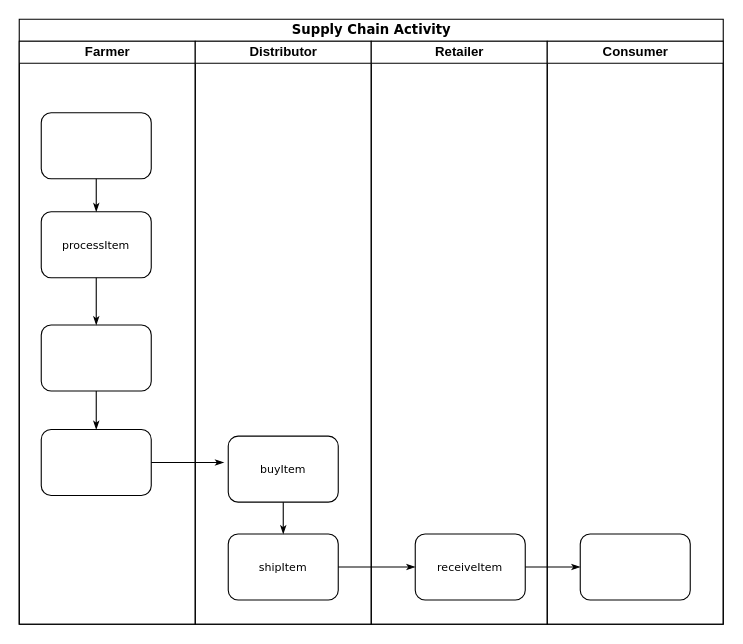
Some shapes in this 743 by 644 pixel diagram are drawn without their labels. Each missing label, with the centre of its shape:
harvestItem: point 95,145
packItem: point 95,357
purchaseItem: point 634,566
sellItem: point 95,462
